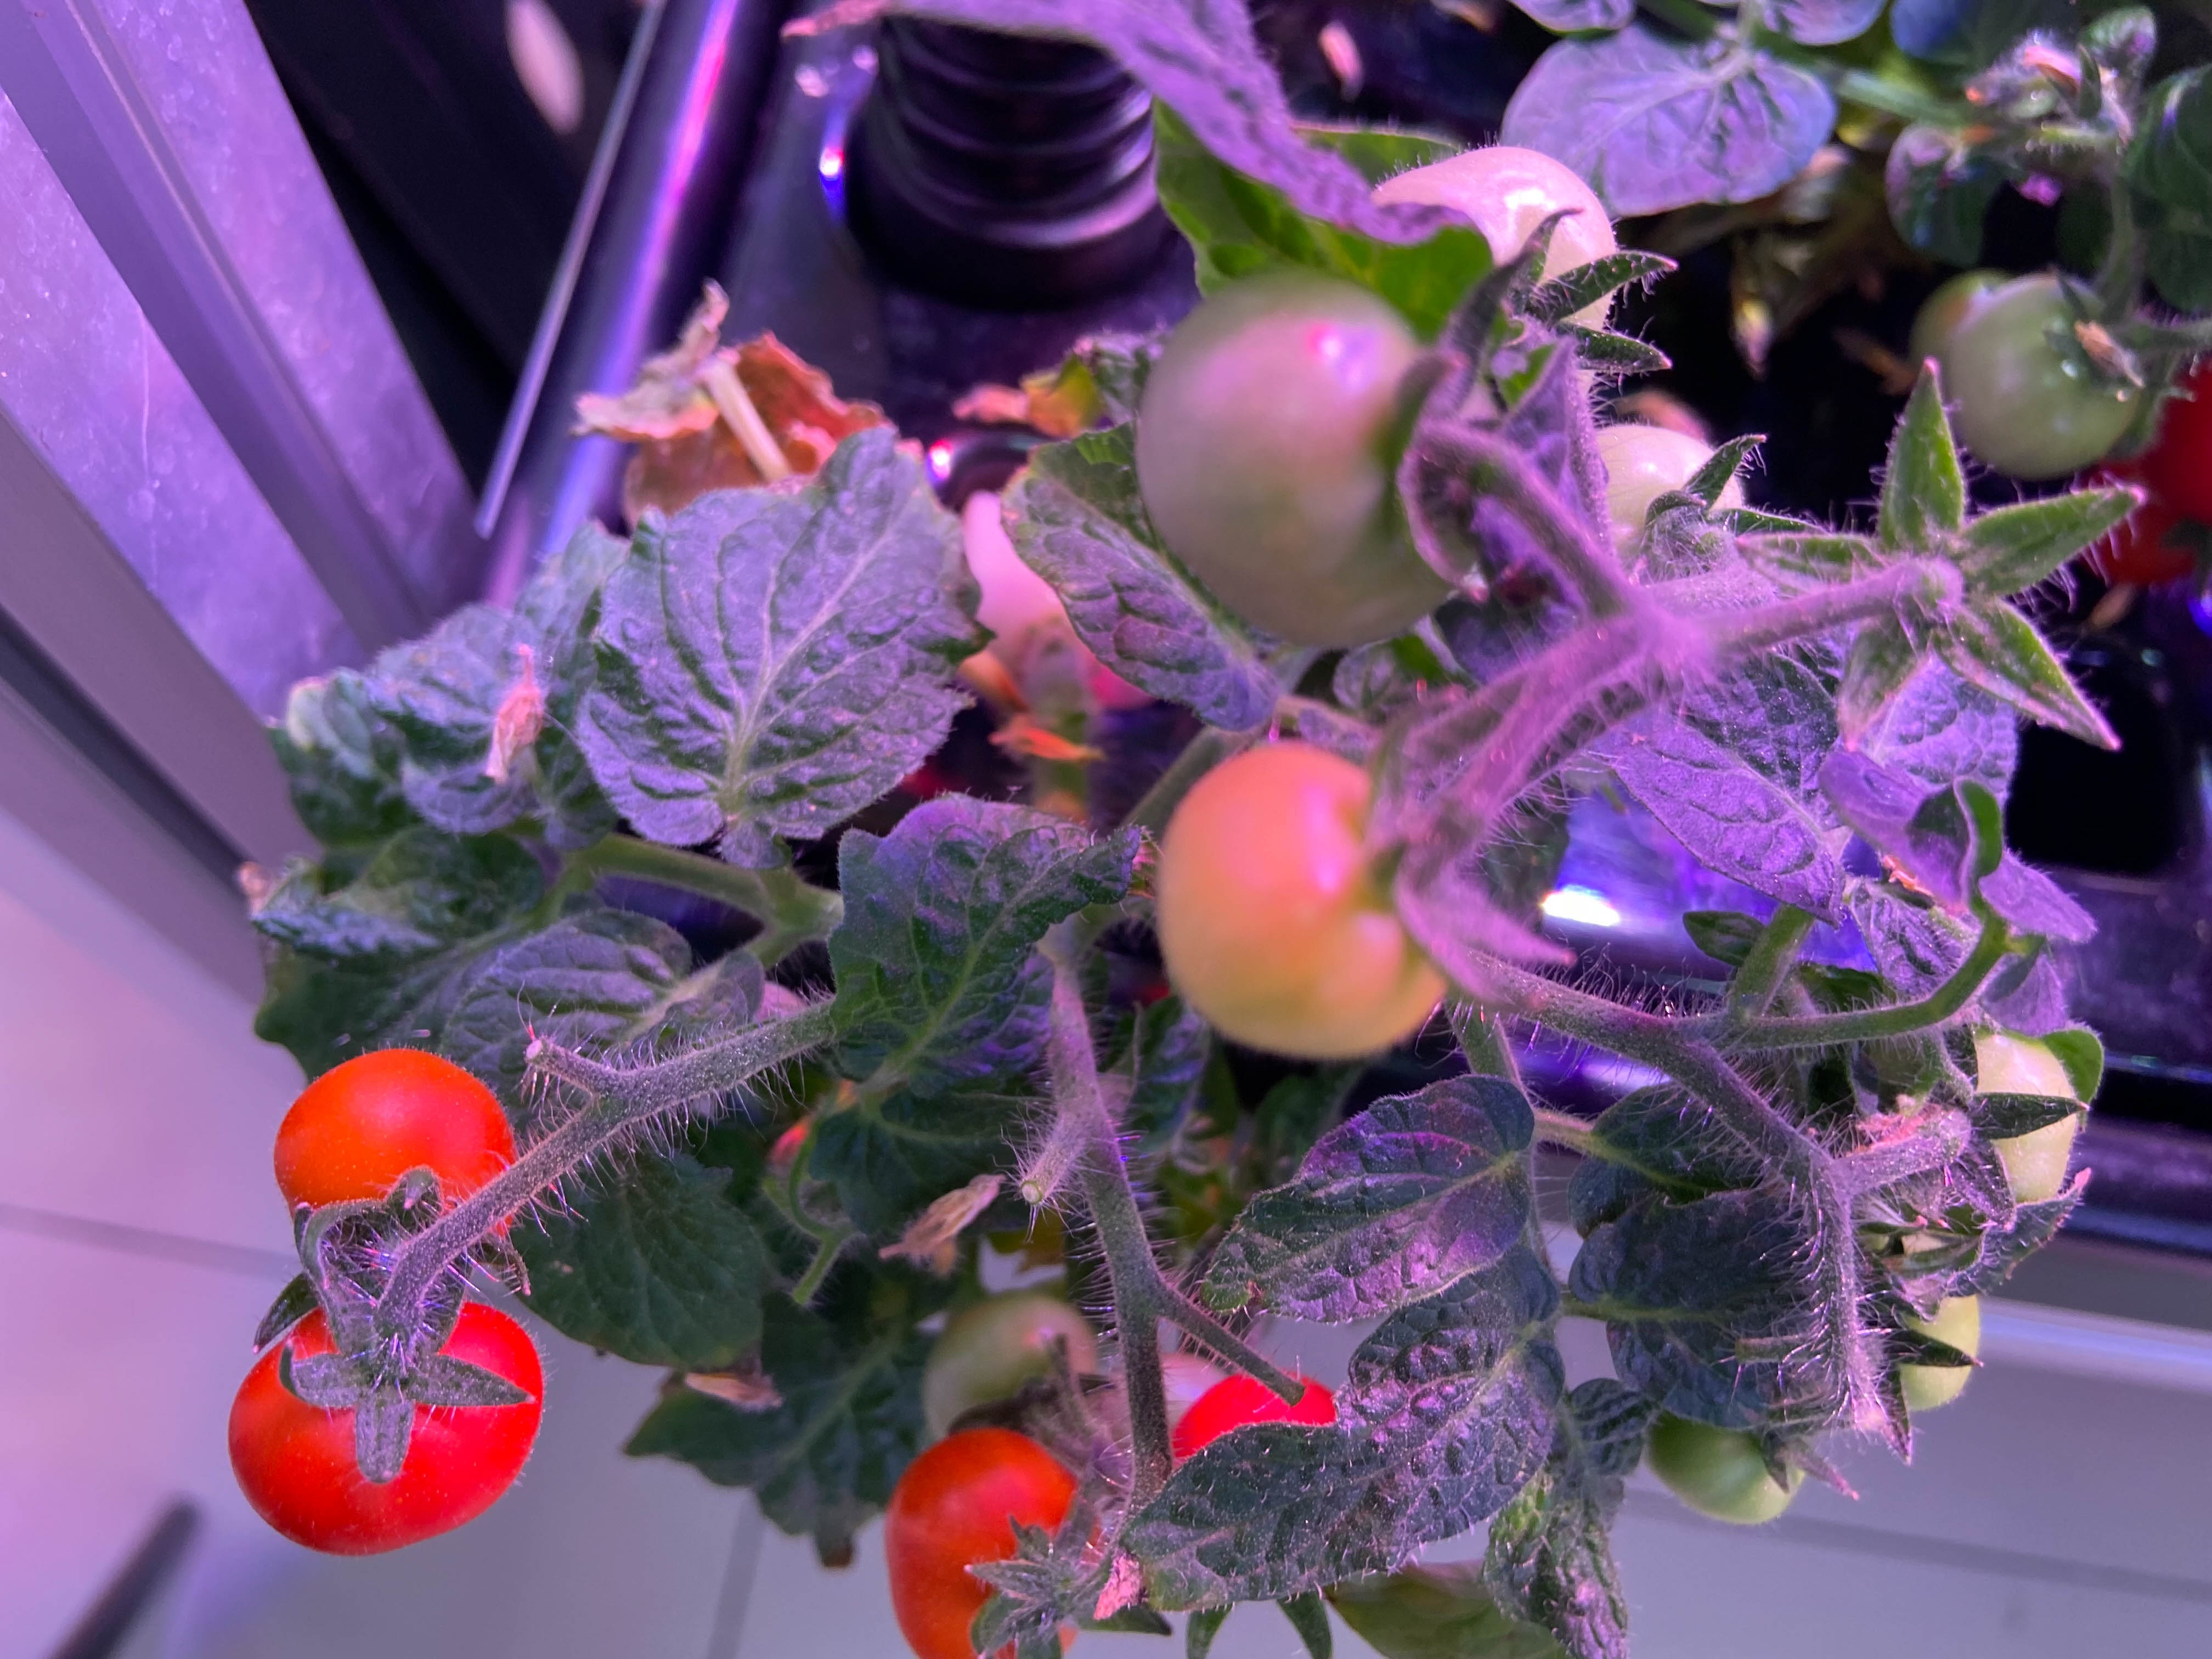green: (1134, 244, 1510, 652), (1926, 267, 2141, 483), (1500, 413, 1743, 579), (923, 1290, 1109, 1445), (1637, 1387, 1818, 1525), (1824, 1276, 1972, 1417)
red: (1150, 727, 1456, 1070), (226, 1281, 549, 1556), (270, 1042, 533, 1265), (881, 1424, 1120, 1657), (1367, 145, 1615, 368), (1900, 1025, 2083, 1229), (1160, 1364, 1350, 1476), (2087, 436, 2209, 598), (2116, 343, 2212, 549)
